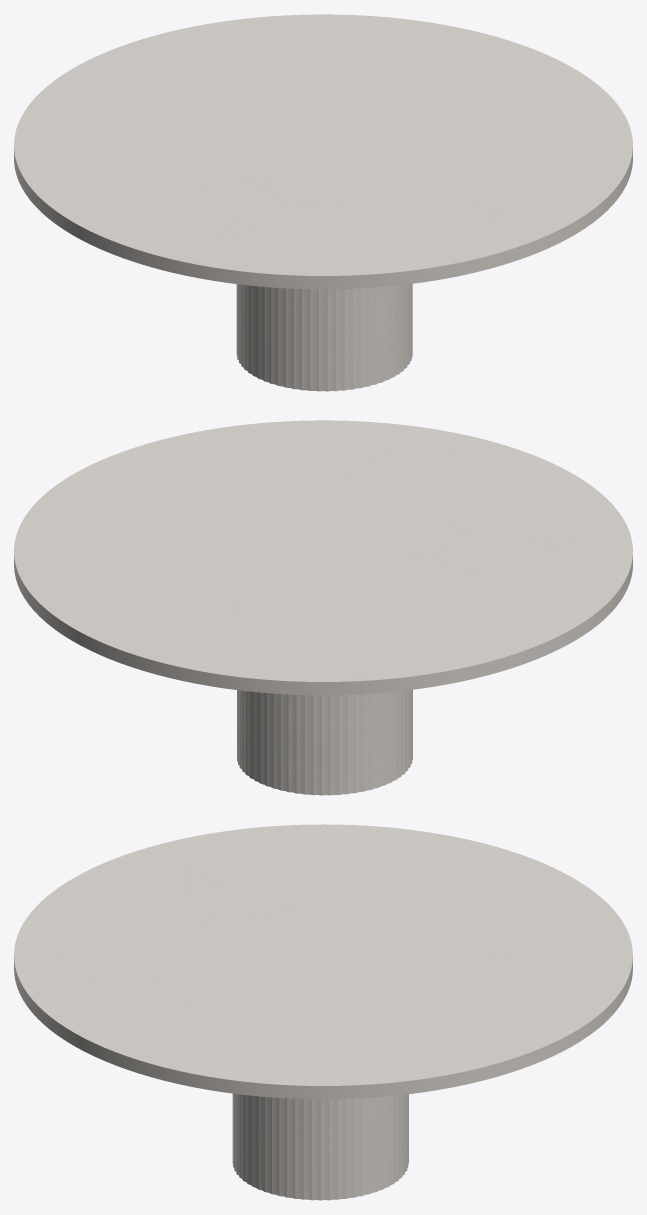
Rendered from pearlwhite_round_standard_ripple.glb.
The picture shows the model from 3 angles, top to bottom: view 1: azimuth 30°, elevation 25°; view 2: azimuth 150°, elevation 25°; view 3: azimuth 270°, elevation 25°; orthographic projection.
Visible parts, largest first — view 1: standard_round, ripple; view 2: standard_round, ripple; view 3: standard_round, ripple.
Boxes of the visible parts, left/top/right/bottom form: standard_round: left=14, top=14, right=632, bottom=289; ripple: left=236, top=284, right=412, bottom=391; standard_round: left=14, top=420, right=632, bottom=695; ripple: left=237, top=689, right=412, bottom=795; standard_round: left=14, top=824, right=632, bottom=1099; ripple: left=232, top=1093, right=408, bottom=1200.
Bounding box in the file's own units: 6.75 × 2.5 × 6.75.
1 material, 1 textured.
